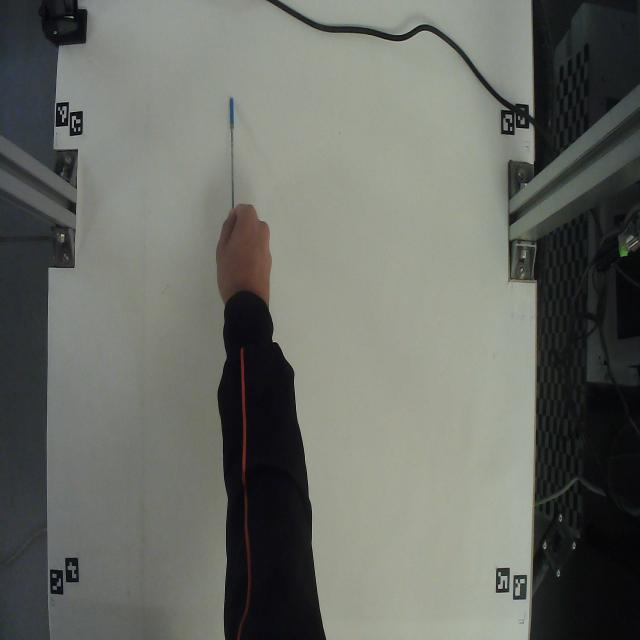Pres: (223, 79, 243, 216)
